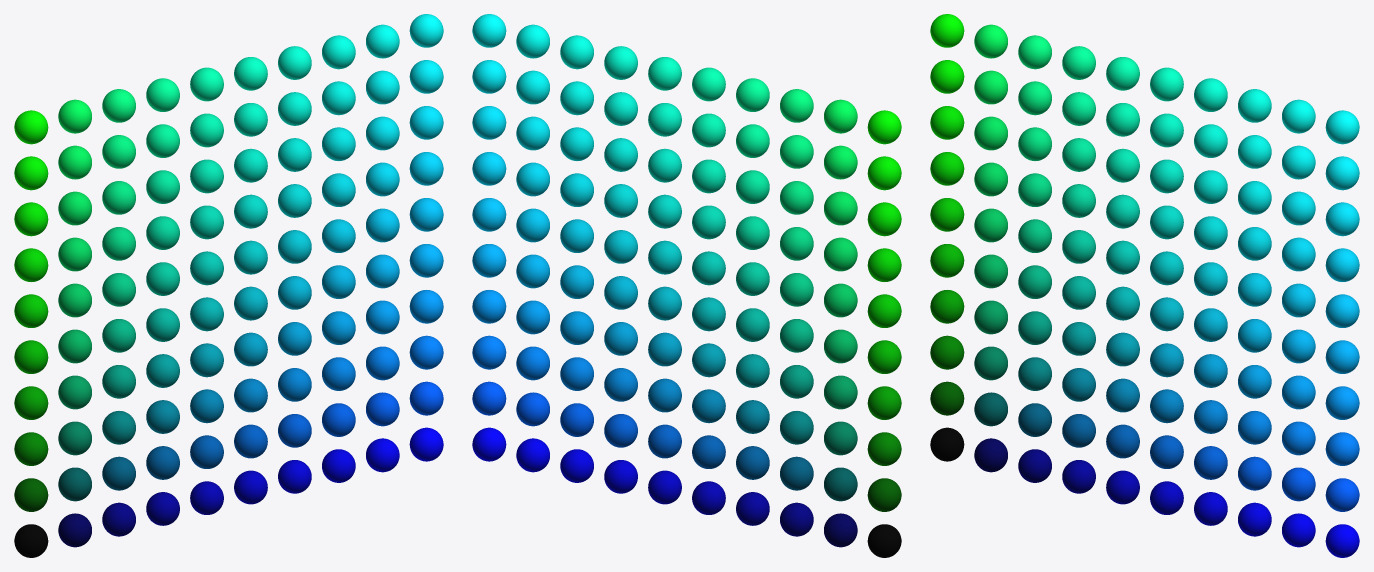
Rendered from vertex_color_grid.glb.
The picture shows the model from 3 angles, left to right: view 1: azimuth 30°, elevation 25°; view 2: azimuth 150°, elevation 25°; view 3: azimuth 330°, elevation 25°; orthographic projection.
Visible parts, largest first — view 1: sphere_0_1, sphere_2_1, sphere_7_8, sphere_9_8, sphere_0_0, sphere_2_0, sphere_0_2, sphere_0_3, sphere_0_4, sphere_5_4, sphere_4_5, sphere_9_5 (+88 smaller); view 2: sphere_0_1, sphere_2_1, sphere_7_8, sphere_9_8, sphere_0_0, sphere_2_0, sphere_0_2, sphere_0_3, sphere_0_4, sphere_5_4, sphere_4_5, sphere_9_5 (+88 smaller); view 3: sphere_7_1, sphere_9_1, sphere_0_8, sphere_2_8, sphere_7_0, sphere_9_0, sphere_9_2, sphere_9_3, sphere_4_4, sphere_9_4, sphere_0_5, sphere_5_5 (+88 smaller).
Part boxes in pixels (x1,y1,x2,y2): sphere_0_1: (14,478,48,511); sphere_2_1: (102,456,135,490); sphere_7_8: (322,81,355,115); sphere_9_8: (409,60,443,93); sphere_0_0: (14,524,48,557); sphere_2_0: (102,502,135,536); sphere_0_2: (14,432,48,465); sphere_0_3: (14,386,48,419); sphere_0_4: (14,340,48,373); sphere_5_4: (234,286,267,320); sphere_4_5: (190,251,223,285); sphere_9_5: (409,198,443,231); sphere_0_1: (867,478,901,511); sphere_2_1: (780,456,813,490); sphere_7_8: (560,81,593,115); sphere_9_8: (472,60,506,93); sphere_0_0: (867,524,901,557); sphere_2_0: (780,502,813,536); sphere_0_2: (867,432,901,465); sphere_0_3: (867,386,901,419); sphere_0_4: (867,340,901,373); sphere_5_4: (648,286,681,320); sphere_4_5: (692,251,725,285); sphere_9_5: (472,198,506,231); sphere_7_1: (1238,456,1271,490); sphere_9_1: (1325,478,1359,511); sphere_0_8: (930,60,964,93); sphere_2_8: (1018,81,1051,115); sphere_7_0: (1238,502,1271,536); sphere_9_0: (1325,524,1359,557); sphere_9_2: (1325,432,1359,465); sphere_9_3: (1325,386,1359,419); sphere_4_4: (1106,286,1139,320); sphere_9_4: (1325,340,1359,373); sphere_0_5: (930,198,964,231); sphere_5_5: (1150,251,1183,285).
Bounding box in the file's own units: 2.9 × 2.9 × 0.2.
